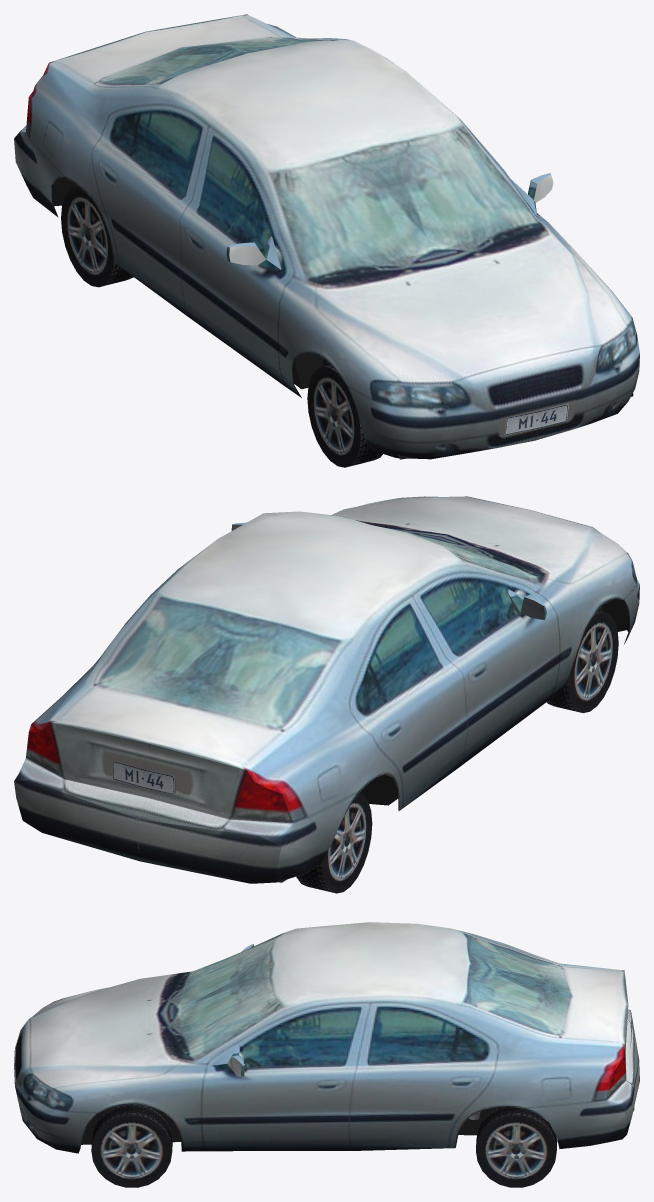
File: car02.FBX
3 views of the same model, one above another, from view 1: azimuth 30°, elevation 25°; view 2: azimuth 150°, elevation 25°; view 3: azimuth 270°, elevation 25° (orthographic). The views are drawn at different scales.
Parts seen in each view (by area): view 1: car02, rueda004, rueda003; view 2: car02, rueda004, rueda003; view 3: car02, rueda01, rueda002.
Part boxes in pixels (x1=…): car02: x1=14, y1=14, x2=639, y2=459; rueda004: x1=307, y1=365, x2=382, y2=467; rueda003: x1=61, y1=186, x2=133, y2=287; car02: x1=14, y1=496, x2=639, y2=883; rueda004: x1=546, y1=610, x2=618, y2=712; rueda003: x1=296, y1=793, x2=372, y2=893; car02: x1=14, y1=922, x2=639, y2=1153; rueda01: x1=91, y1=1104, x2=172, y2=1187; rueda002: x1=476, y1=1106, x2=557, y2=1187.
Bounding box in the file's own units: 2.21 × 1.55 × 4.81.
